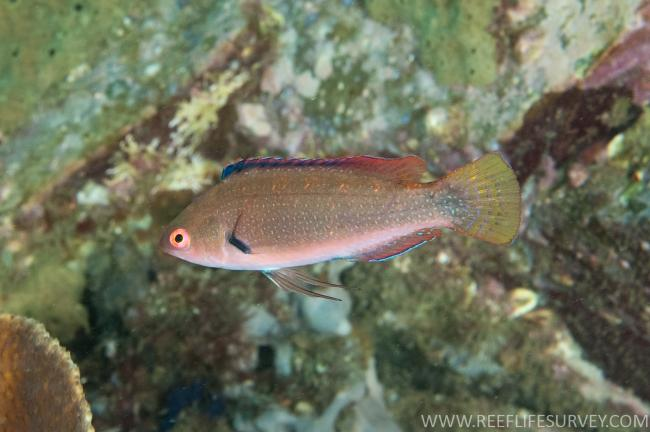fish: (159, 152, 524, 302)
